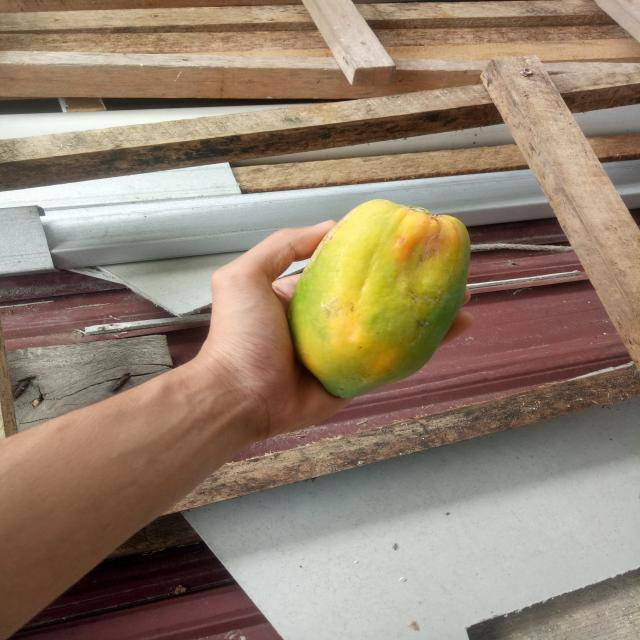Pepaya rippen: (297, 190, 463, 397)
